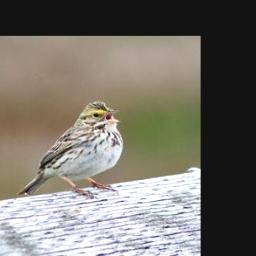Sparrow: (19, 97, 125, 201)
